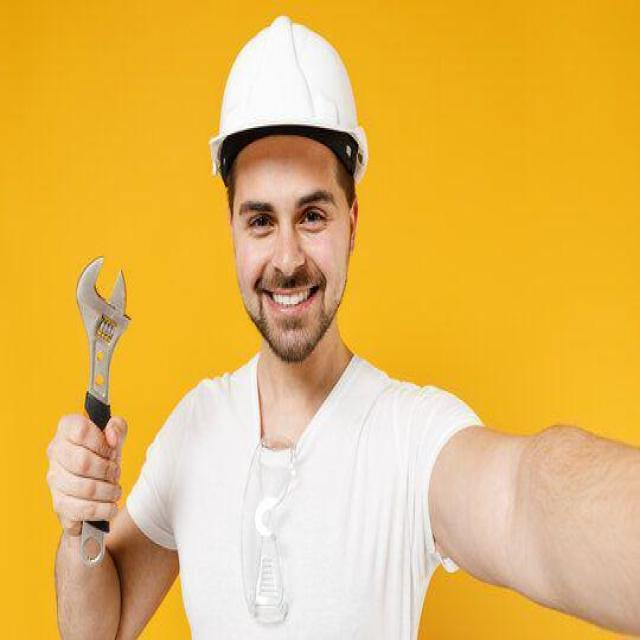helmet: (208, 14, 368, 187)
